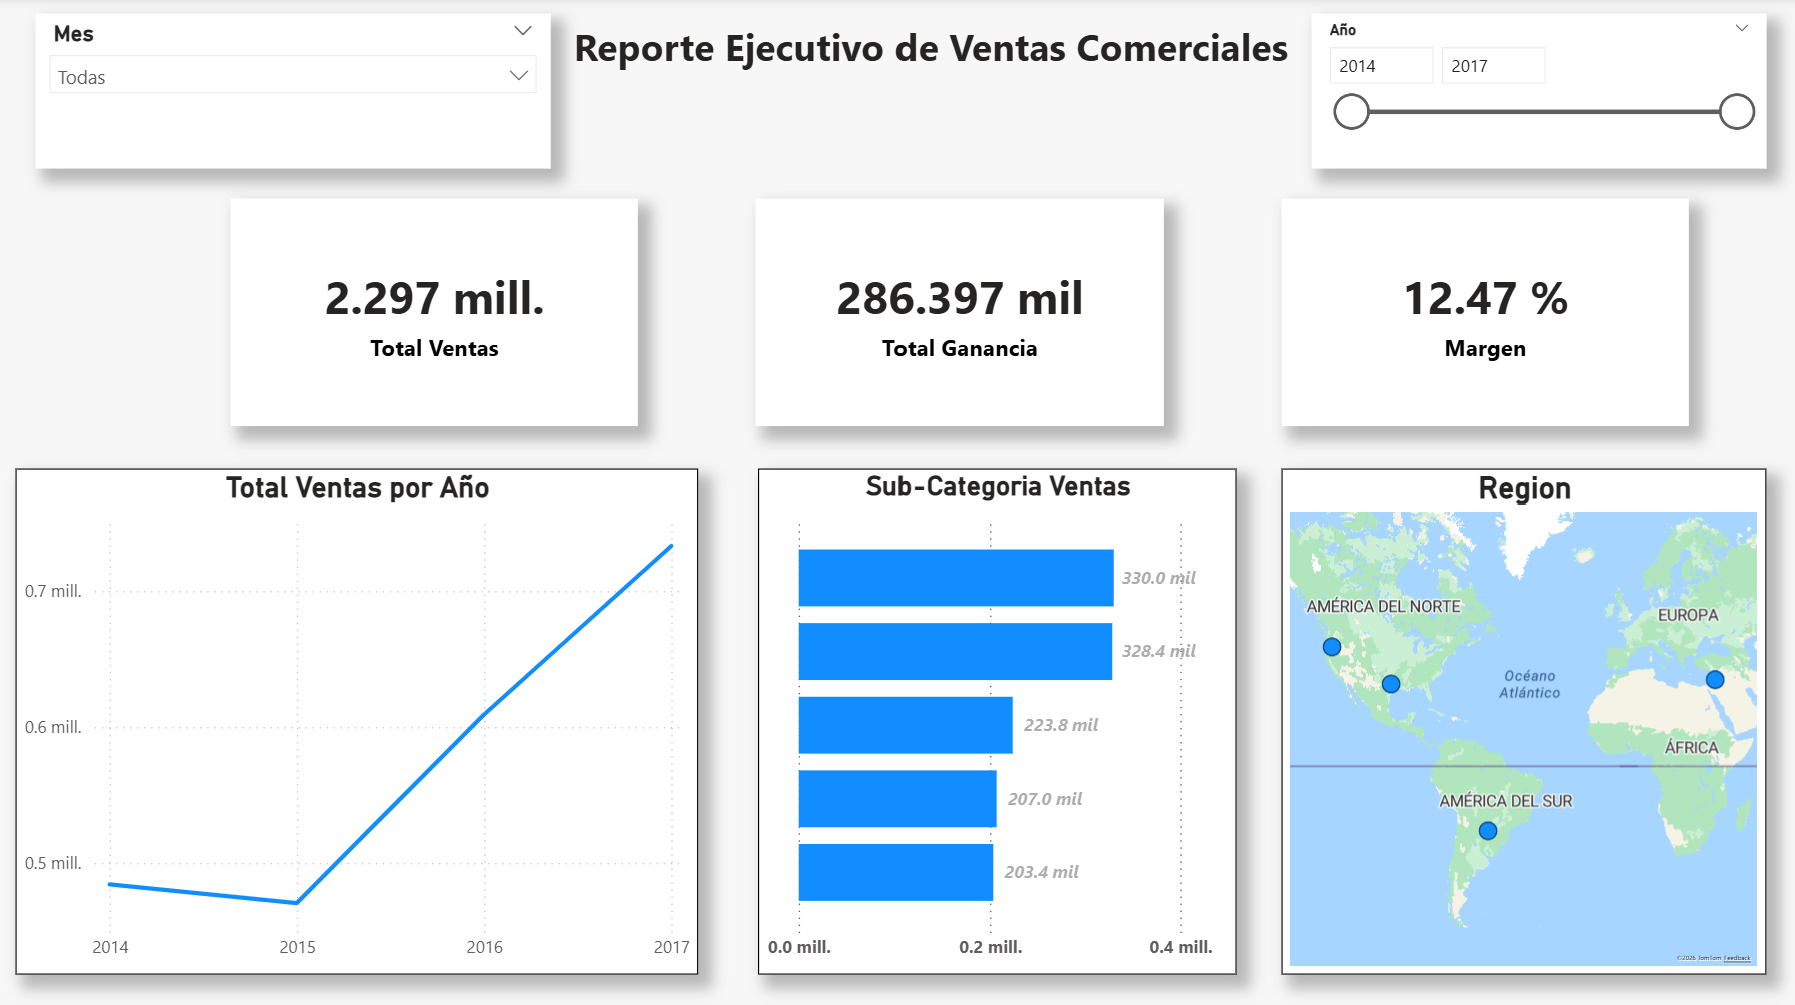

This screenshot's page, from the dashboard's own definition file:
{"tool":"powerbi","page":{"name":"Página 1","canvas":[1280,720],"ordinal":0},"visuals":[{"type":"lineChart","fields":{"Y":["Sample___Superstore.Total Ventas"],"Category":["Sample___Superstore.Mes","Sample___Superstore.Año"]},"box":[12.5,336.4,485.9,359.5],"z":0},{"type":"barChart","title":"Sub-Categoria Ventas","fields":{"Category":["Sample___Superstore.Sub-Category"],"Y":["Sample___Superstore.Total Ventas"]},"box":[541.1,336.4,339.9,359.5],"z":1000},{"type":"azureMap","fields":{"Category":["Sample___Superstore.Region"]},"box":[913,336.4,345.3,359.5],"z":2000},{"type":"slicer","fields":{"Values":["Sample___Superstore.Mes"]},"box":[26.7,12.5,366.6,110.3],"z":3000},{"type":"slicer","fields":{"Values":["Sample___Superstore.Año"]},"box":[934.4,12.5,323.9,110.3],"z":4000},{"type":"card","fields":{"Values":["Sample___Superstore.Total Ventas"]},"box":[165.5,144.2,290.1,162],"z":5000},{"type":"card","fields":{"Values":["Sample___Superstore.Total Ganancia"]},"box":[539.3,144.2,290.1,162],"z":6000},{"type":"card","fields":{"Values":["Sample___Superstore.Margen"]},"box":[913,144.2,290.1,162],"z":7000},{"type":"textbox","box":[393.3,12.5,541.1,55.2],"z":8000}]}

Visuals, with their boxes in screenshot pixels (x1, y1, x2, y2), scaled from the page's 1280x720 canvas onto the 1795x1005 screenshot:
lineChart - Sample___Superstore.Total Ventas x Sample___Superstore.Mes: 18:470:699:971
"Sub-Categoria Ventas" barChart: 759:470:1235:971
azureMap - Sample___Superstore.Region: 1280:470:1765:971
slicer - Sample___Superstore.Mes: 37:17:552:171
slicer - Sample___Superstore.Año: 1310:17:1765:171
card - Sample___Superstore.Total Ventas: 232:201:639:427
card - Sample___Superstore.Total Ganancia: 756:201:1163:427
card - Sample___Superstore.Margen: 1280:201:1687:427
textbox: 552:17:1310:94
